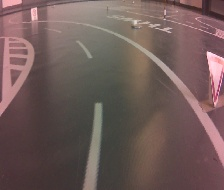give way sign: (206, 51, 223, 107)
